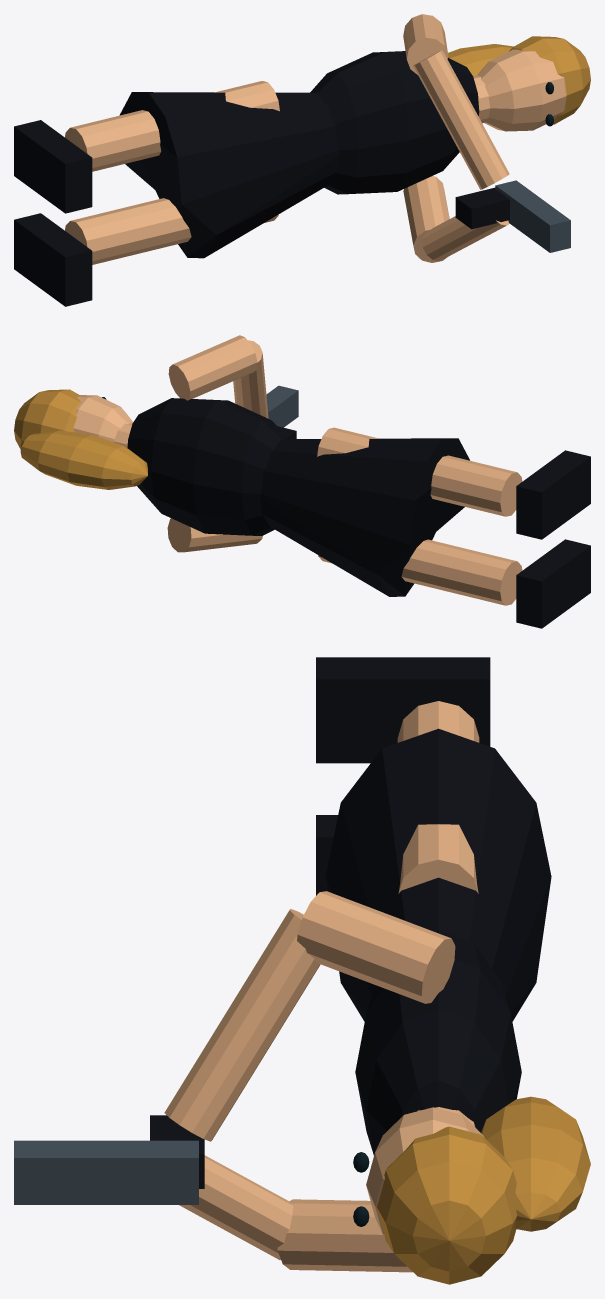
File: aya_down.obj
The picture shows the model from 3 angles, top to bottom: view 1: azimuth 30°, elevation 25°; view 2: azimuth 150°, elevation 25°; view 3: azimuth 270°, elevation 25°; orthographic projection. The views are drawn at different scales.
Visible parts, largest first — view 1: Dress_skirt.004, Dress_bodice.004, Face.004, Evening_shoe.008, Evening_shoe.009, Leg.009, Leg.008, Left_forearm.004, Pistol_slide.004, Hair_cap.004, Right_upper_arm.004, Right_forearm.004 (+4 smaller); view 2: Dress_skirt.004, Dress_bodice.004, Ponytail.004, Leg.009, Leg.008, Evening_shoe.008, Evening_shoe.009, Left_upper_arm.004, Hair_cap.004, Face.004, Right_upper_arm.004, Left_forearm.004 (+1 smaller); view 3: Dress_skirt.004, Dress_bodice.004, Hair_cap.004, Evening_shoe.008, Left_forearm.004, Pistol_slide.004, Left_upper_arm.004, Ponytail.004, Right_upper_arm.004, Leg.008, Right_forearm.004, Face.004 (+2 smaller).
Part boxes in pixels (<box>): Dress_skirt.004: <box>119,92,339,258</box>; Dress_bodice.004: <box>310,51,479,194</box>; Face.004: <box>477,49,566,131</box>; Evening_shoe.008: <box>14,120,92,213</box>; Evening_shoe.009: <box>14,213,92,306</box>; Leg.009: <box>65,198,278,264</box>; Leg.008: <box>65,81,279,171</box>; Left_forearm.004: <box>413,50,509,189</box>; Pistol_slide.004: <box>495,180,570,252</box>; Hair_cap.004: <box>509,36,590,124</box>; Right_upper_arm.004: <box>403,176,449,262</box>; Right_forearm.004: <box>421,216,509,261</box>; Dress_skirt.004: <box>260,438,469,596</box>; Dress_bodice.004: <box>127,398,287,535</box>; Ponytail.004: <box>20,430,147,489</box>; Leg.009: <box>318,539,522,605</box>; Leg.008: <box>317,427,522,516</box>; Evening_shoe.008: <box>516,450,590,539</box>; Evening_shoe.009: <box>516,539,590,628</box>; Left_upper_arm.004: <box>168,335,257,400</box>; Hair_cap.004: <box>14,389,80,448</box>; Face.004: <box>73,395,133,442</box>; Right_upper_arm.004: <box>167,518,262,552</box>; Left_forearm.004: <box>233,340,268,418</box>; Dress_skirt.004: <box>325,728,551,1021</box>; Dress_bodice.004: <box>355,930,521,1155</box>; Hair_cap.004: <box>377,1126,516,1284</box>; Evening_shoe.008: <box>316,657,490,763</box>; Left_forearm.004: <box>164,909,320,1141</box>; Pistol_slide.004: <box>14,1140,198,1204</box>; Left_upper_arm.004: <box>297,891,455,1003</box>; Ponytail.004: <box>481,1096,590,1231</box>; Right_upper_arm.004: <box>277,1199,412,1272</box>; Leg.008: <box>397,701,479,893</box>; Right_forearm.004: <box>179,1155,293,1259</box>; Face.004: <box>366,1107,484,1235</box>.
Size of the model in its own units: 2.01 by 0.758 by 1.06.
